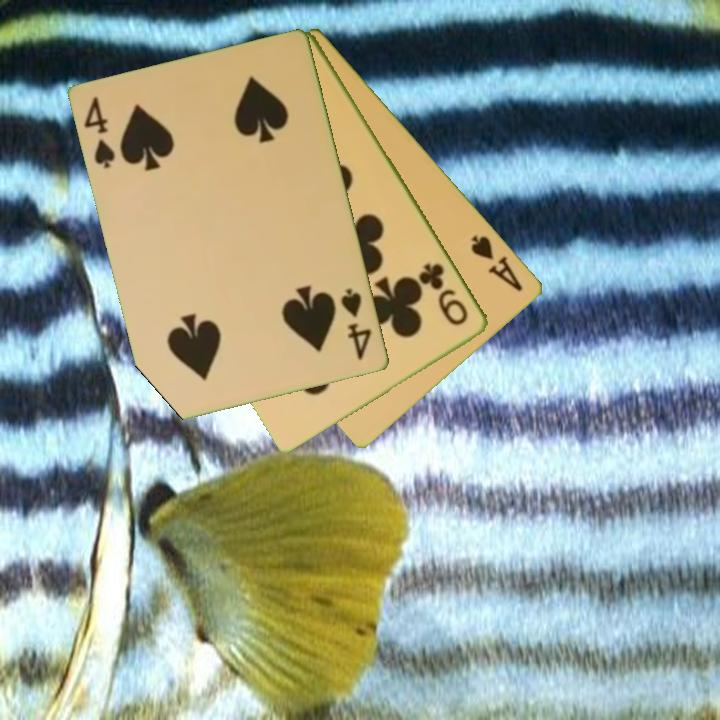4s: (81, 93, 119, 172), (338, 285, 375, 364)
9c: (417, 259, 472, 329)
As: (467, 231, 527, 295)
